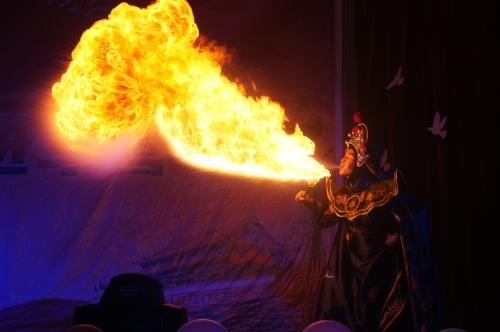fire: (42, 0, 325, 179)
